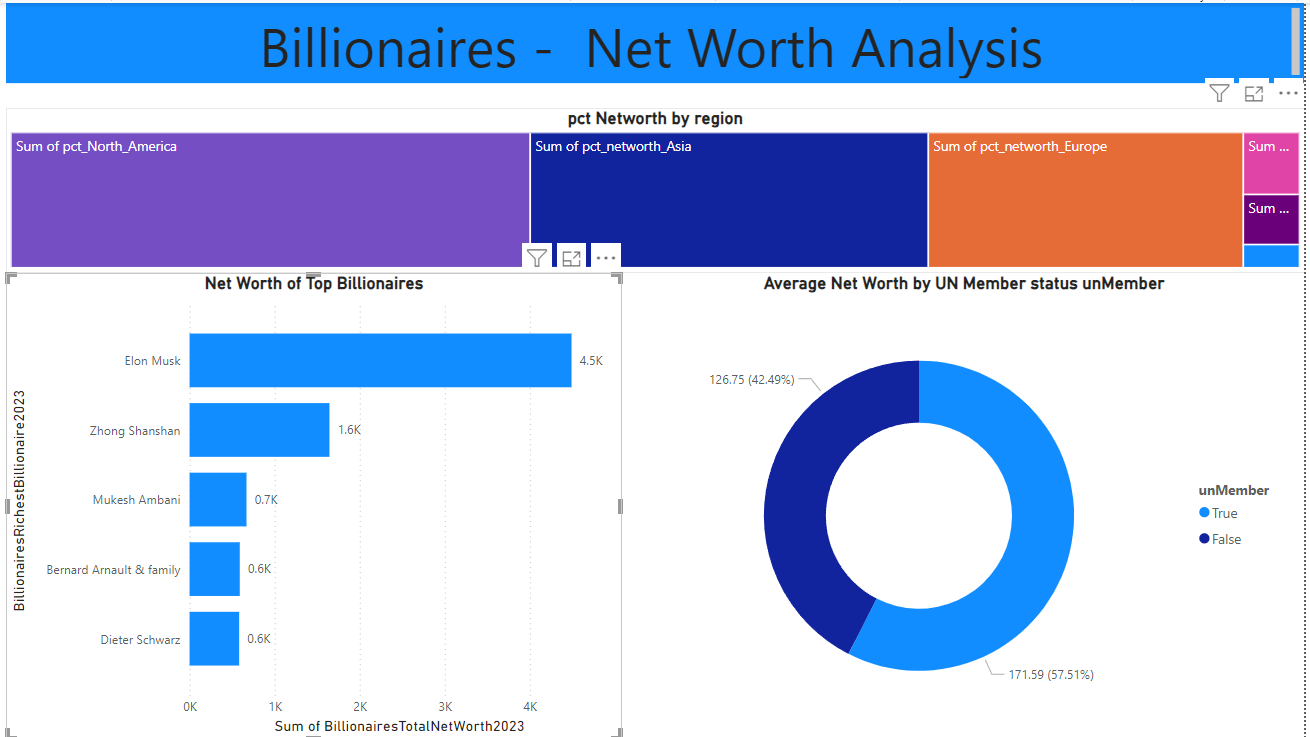

What the dashboard file says about the page in this screenshot:
{"tool":"powerbi","page":{"name":"Page 1","canvas":[1280,720],"ordinal":0},"visuals":[{"type":"textbox","box":[9.6,0,1270.7,78.2],"z":0},{"type":"treemap","title":"pct  Networth  by region","fields":{"Values":["pct _ billionaires_networth_worldwild.pct_networth_africa","pct _ billionaires_networth_worldwild.pct_networth_Asia","pct _ billionaires_networth_worldwild.pct_networth_Europe","pct _ billionaires_networth_worldwild.pct_networth_Oceania","pct _ billionaires_networth_worldwild.pct_networth_St_America","pct _ billionaires_networth_worldwild.pct_North_America"]},"box":[9.8,102.7,1270.5,161.4],"z":1},{"type":"clusteredBarChart","title":"Net Worth of Top Billionaires","fields":{"Category":["top 5 billionaire networth.BillionairesRichestBillionaire2023"],"Y":["top 5 billionaire networth.BillionairesTotalNetWorth2023"]},"box":[9.8,264.1,602.9,456.1],"z":2},{"type":"donutChart","title":"Average Net Worth by UN Member status unMember","fields":{"Y":["UN members vs non UN members networth.avg_networth"],"Category":["UN members vs non UN members networth.unMember"]},"box":[624.9,264.1,644.4,456.1],"z":3}]}

Visuals, with their boxes on the page's 1280x720 design canvas (x1, y1, x2, y2). These are canvas units, not pixel positions in the 1310x737 screenshot, which may show the page scaled, cropped or inside an application window:
textbox: [10,0,1280,78]
"pct  Networth  by region" treemap: [10,103,1280,264]
"Net Worth of Top Billionaires" clusteredBarChart: [10,264,613,720]
"Average Net Worth by UN Member status unMember" donutChart: [625,264,1269,720]
